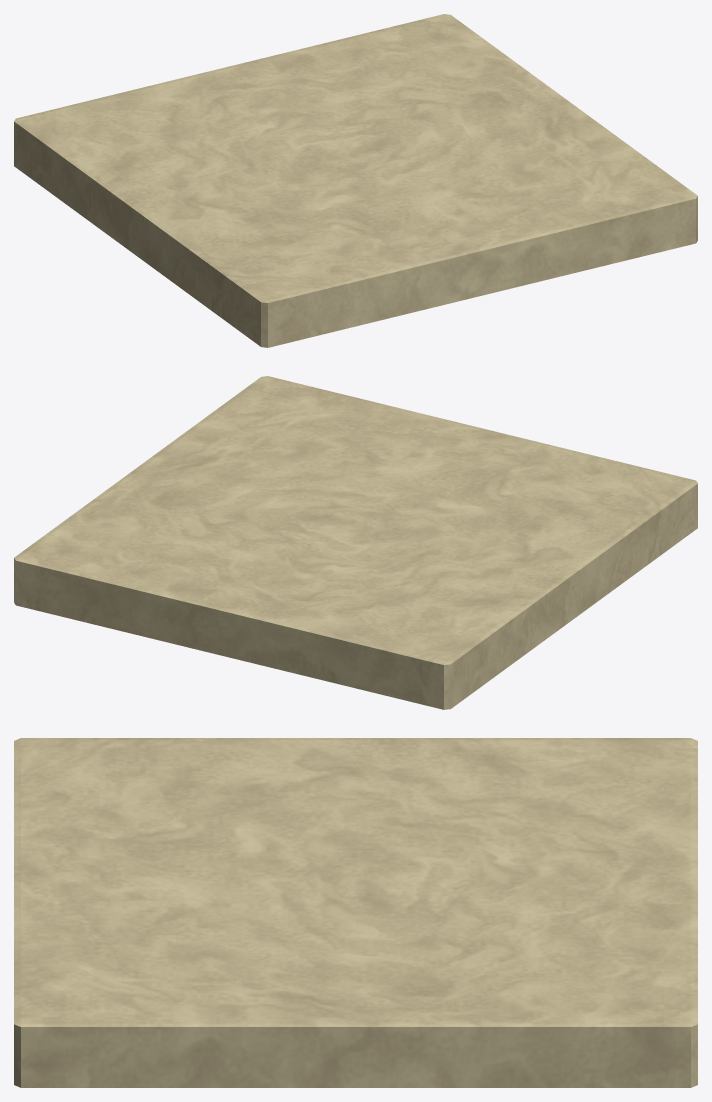
Rendered from slab_sand.glb.
3 renders of one model, top to bottom at view 1: azimuth 30°, elevation 25°; view 2: azimuth 150°, elevation 25°; view 3: azimuth 270°, elevation 25°, orthographic. The views are drawn at different scales.
Parts seen in each view (by area): view 1: Cube; view 2: Cube; view 3: Cube.
Part boxes in pixels (x1,y1,x2,y2): Cube: [14, 14, 697, 347]; Cube: [14, 376, 697, 709]; Cube: [14, 738, 697, 1087].
Size of the model in its own units: 1 by 0.1 by 1.
Materials: 1 (1 with a texture image).
